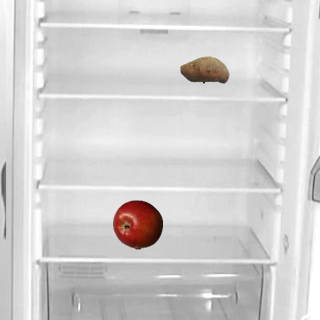Apple Braeburn: (112, 199, 162, 249)
Potato Sweet: (179, 44, 229, 94)
